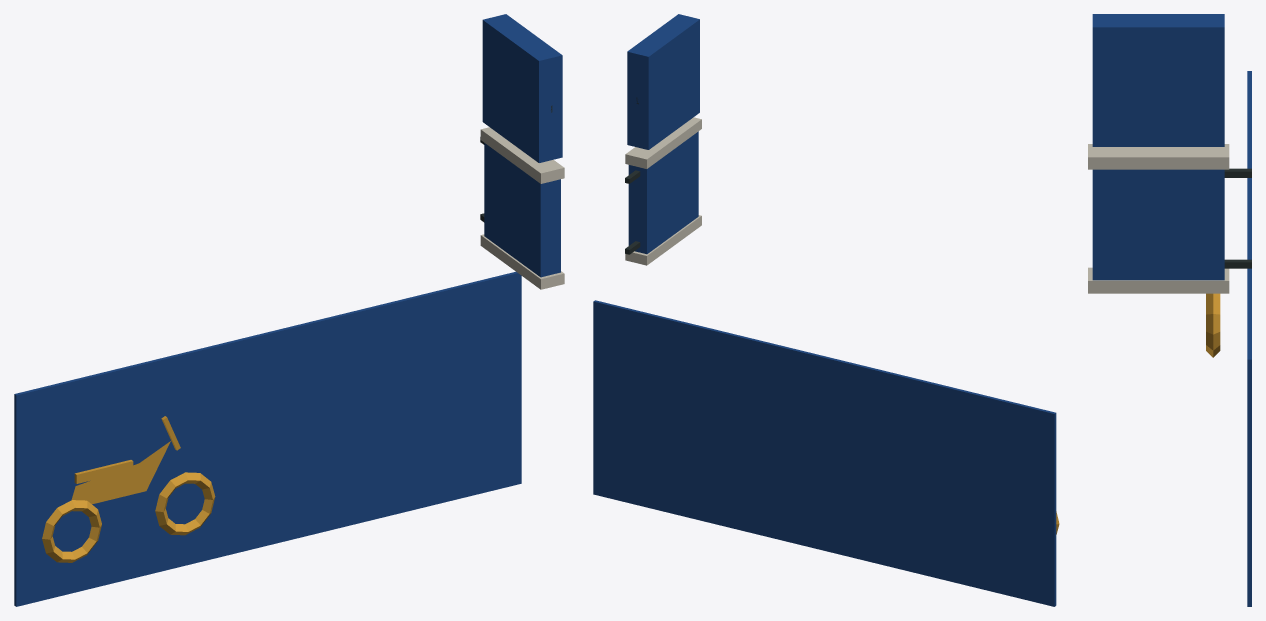
The model's file is bang_giu_xe_32.glb.
3 views of the same model, side by side, from view 1: azimuth 30°, elevation 25°; view 2: azimuth 150°, elevation 25°; view 3: azimuth 270°, elevation 25° (orthographic). The views are drawn at different scales.
Parts seen in each view (by area): view 1: bang_giu_xe_32; view 2: bang_giu_xe_32; view 3: bang_giu_xe_32.
Boxes of the visible parts, x1=… form: bang_giu_xe_32: x1=14, y1=14, x2=564, y2=606; bang_giu_xe_32: x1=593, y1=14, x2=1059, y2=606; bang_giu_xe_32: x1=1088, y1=14, x2=1251, y2=606.
Size of the model in its own units: 3 by 2.74 by 0.72.
